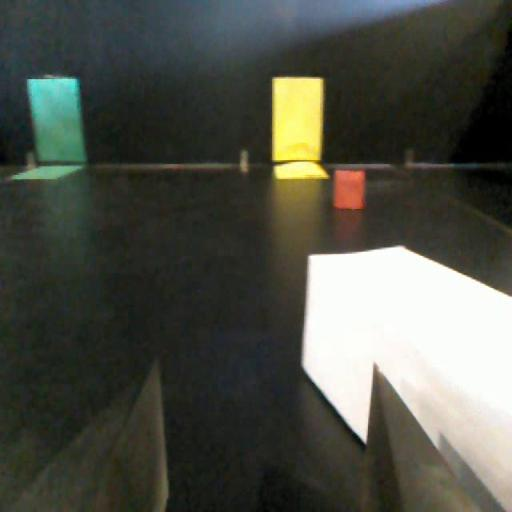cube: (330, 164, 366, 211)
